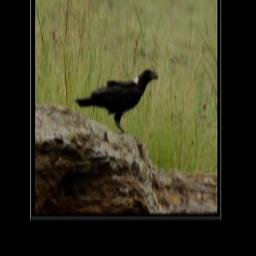Crow: (74, 68, 159, 134)
